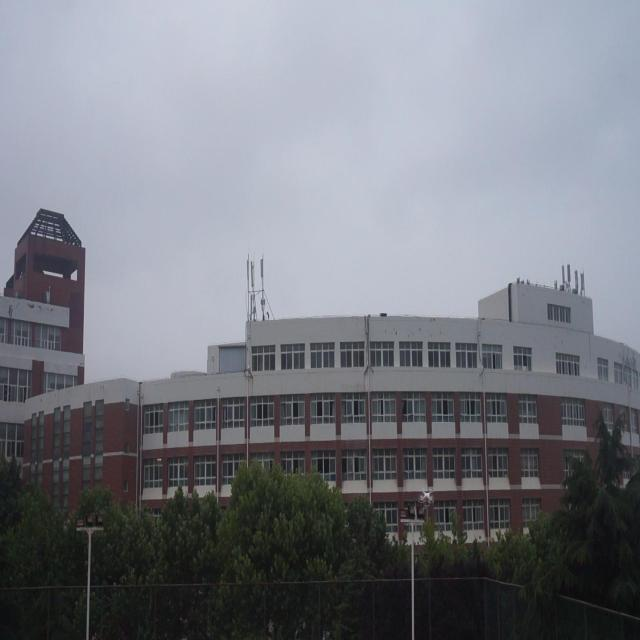drone: (418, 485, 436, 506)
